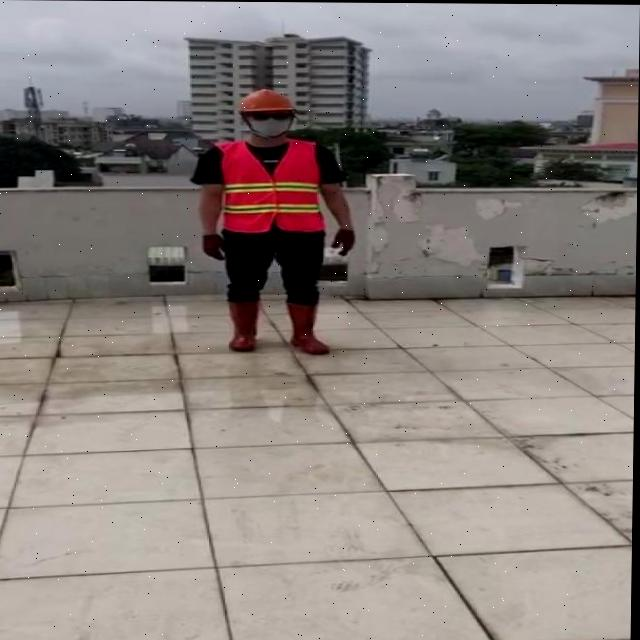Gloves: (332, 226, 355, 255), (202, 233, 225, 259)
Helmet: (238, 87, 296, 138)
Safety-Boot: (286, 299, 330, 353), (227, 297, 259, 350)
Safety-Vest: (211, 136, 326, 234)
